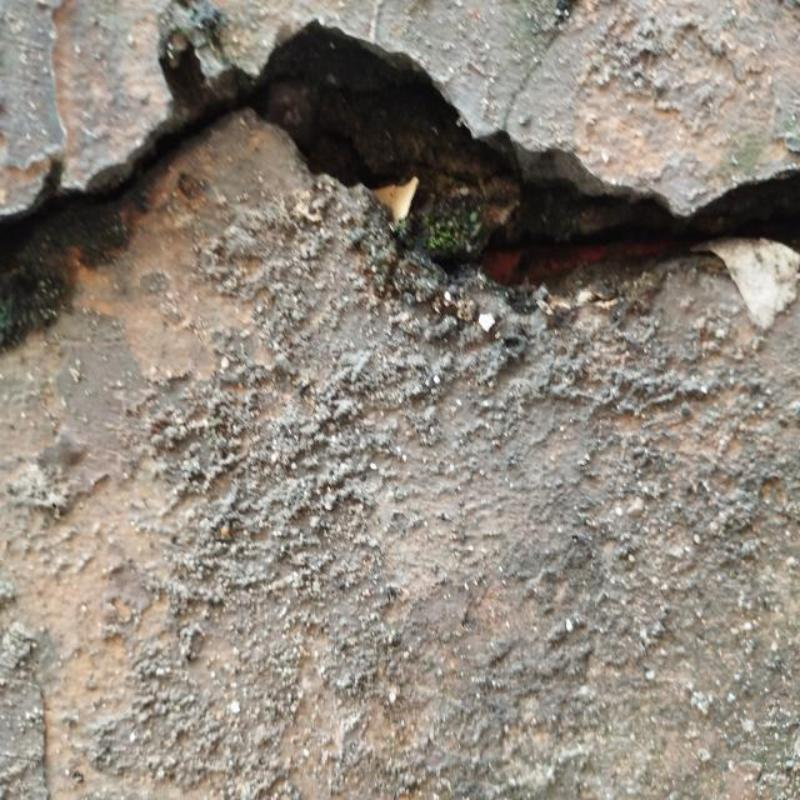pothole: (0, 26, 800, 360)
